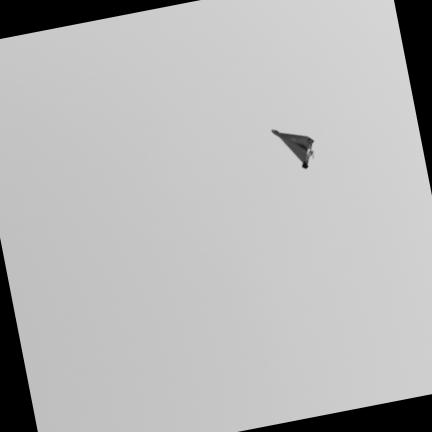Shahed: (271, 129, 313, 167)
